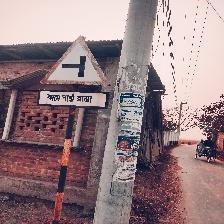Side-road-left: (37, 37, 108, 109)
